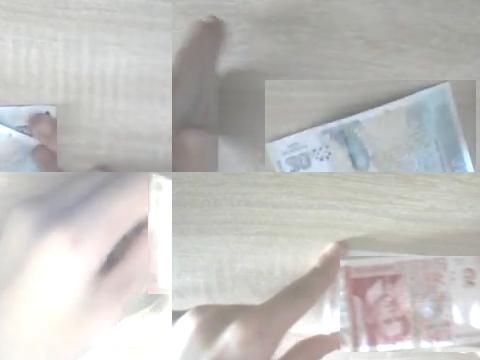10leva: (148, 172, 172, 287)
20leva: (265, 80, 475, 172), (0, 104, 57, 172)
5leva: (340, 256, 480, 352), (343, 255, 480, 351)
